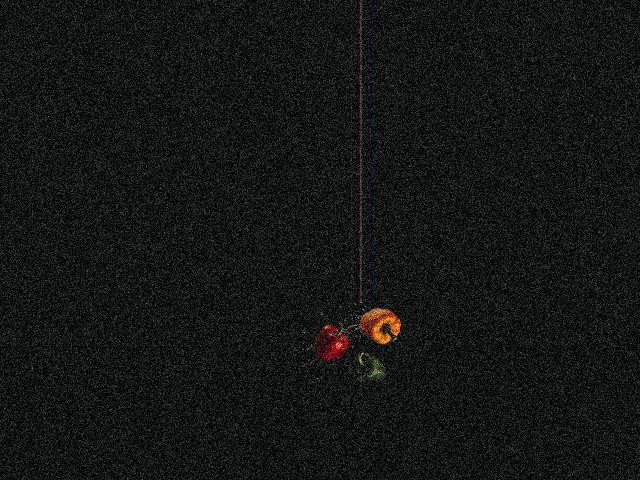bell_pepper: (313, 315, 355, 367)
